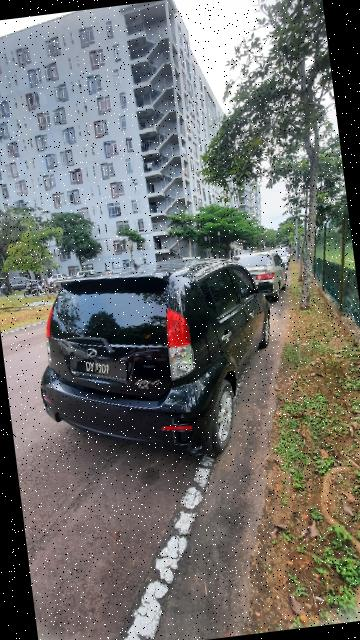License_Plate: (66, 344, 137, 396)
car: (24, 250, 293, 478)
